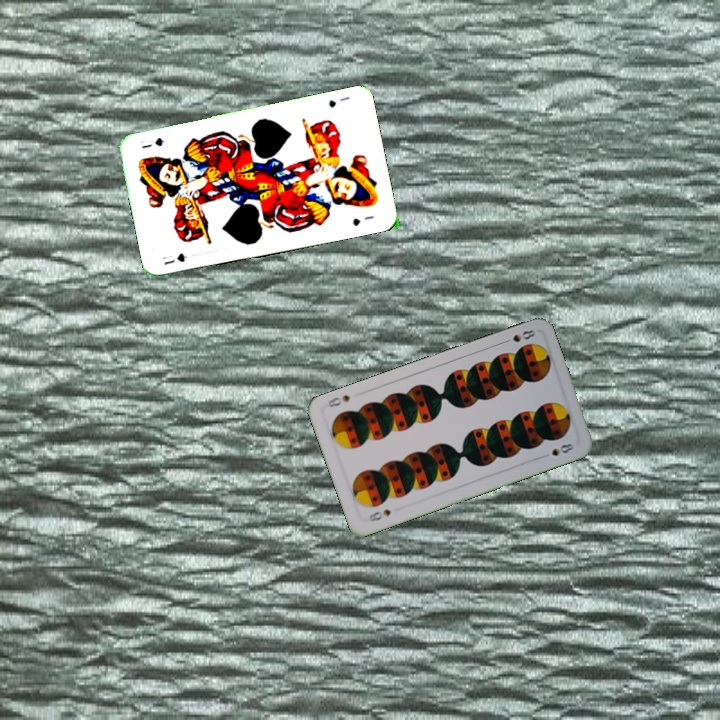GU: (160, 249, 190, 267), (325, 92, 352, 110)
S8: (498, 325, 538, 346), (365, 505, 394, 524)
